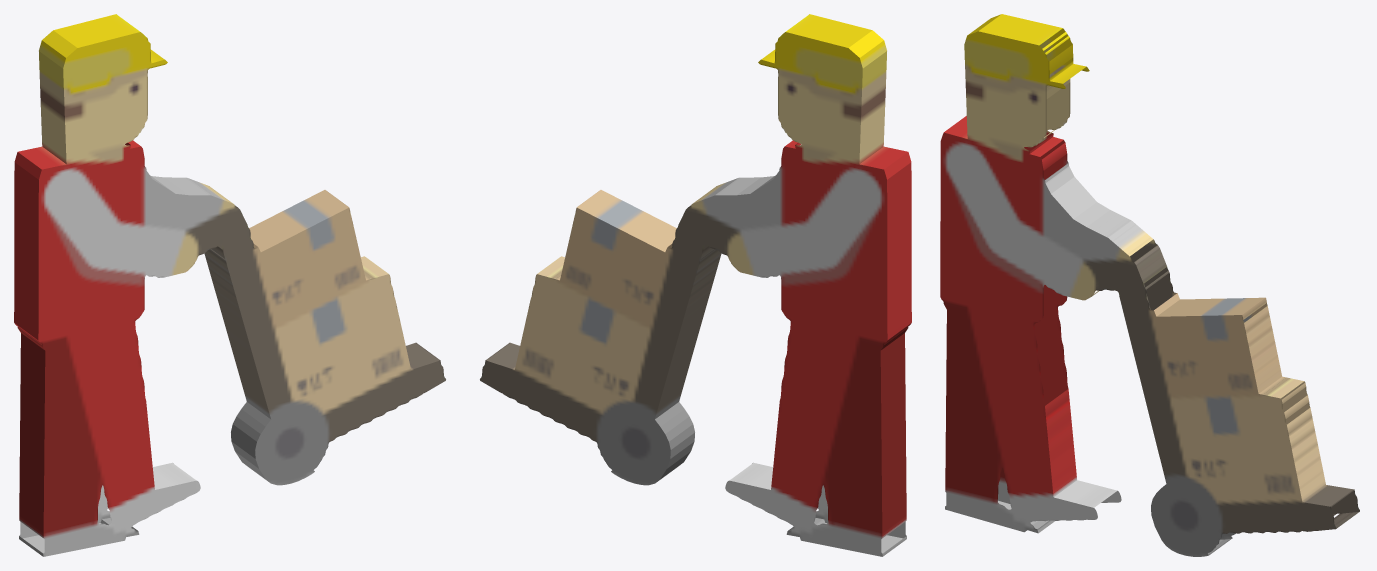
File: manWithCart.FBX
The picture shows the model from 3 angles, left to right: view 1: azimuth 30°, elevation 25°; view 2: azimuth 150°, elevation 25°; view 3: azimuth 330°, elevation 25°; orthographic projection. The views are drawn at different scales.
Parts seen in each view (by area): view 1: manWithCart; view 2: manWithCart; view 3: manWithCart.
Boxes of the visible parts, box(x1,y1,x2,y2) form: manWithCart: box(14, 14, 445, 556); manWithCart: box(480, 14, 911, 556); manWithCart: box(940, 14, 1359, 556).
Size of the model in its own units: 28.81 by 33.88 by 2.96.
Materials: 1 (1 with a texture image).
